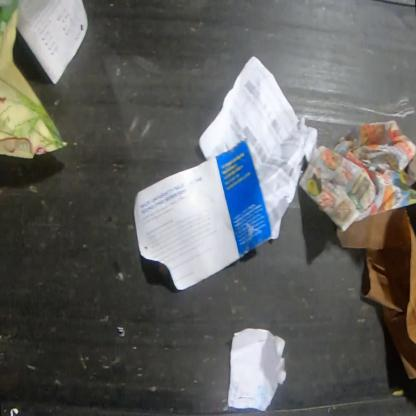cardboard: (336, 206, 415, 380)
soft_plastic: (0, 0, 69, 159)
